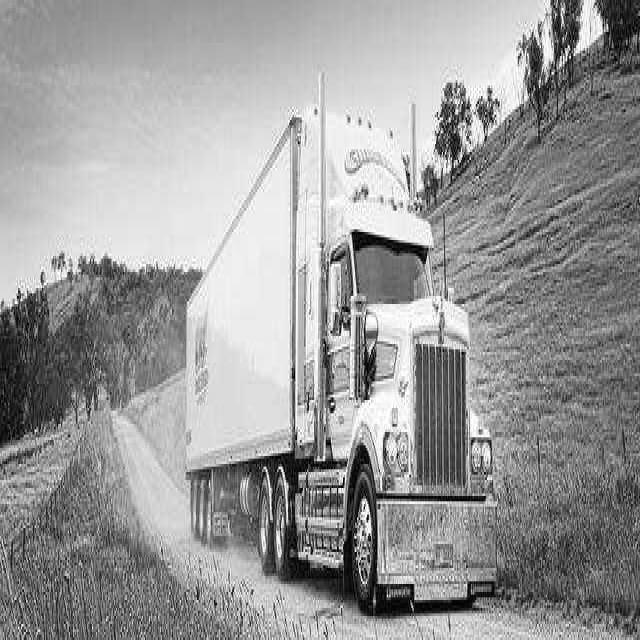Truck: (185, 80, 496, 605)
